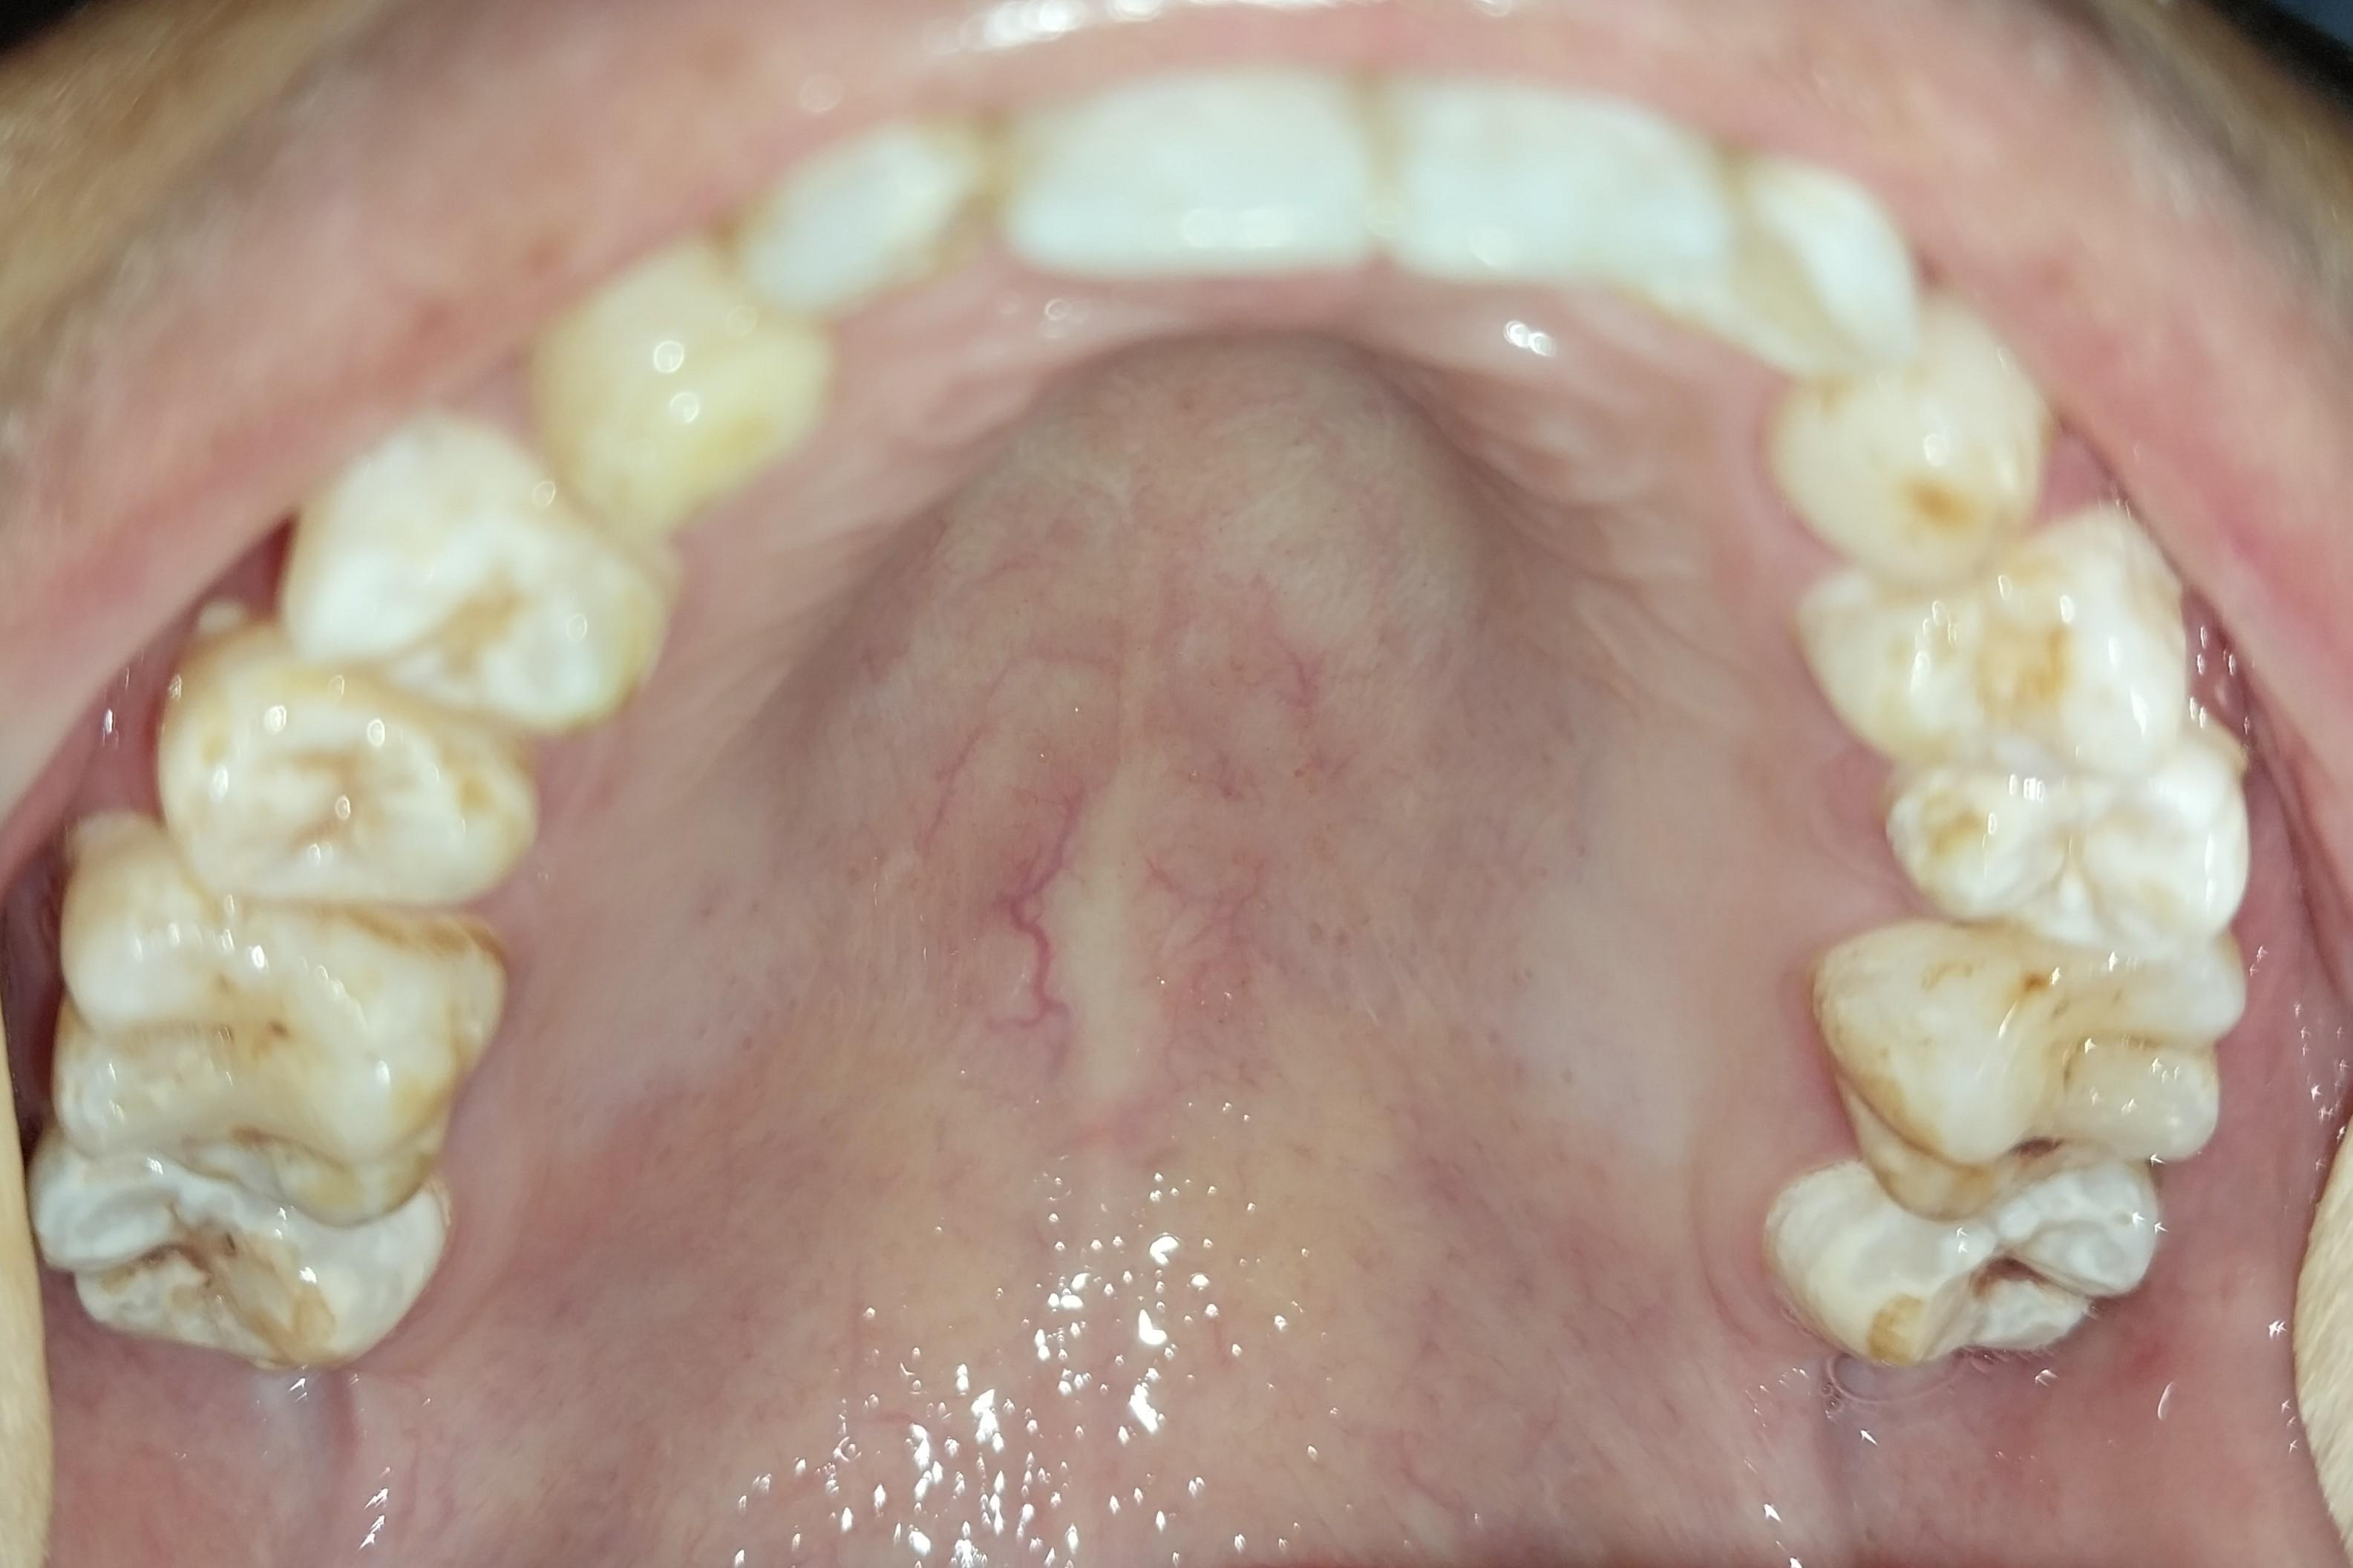D: (47, 850, 497, 1213), (1820, 895, 2247, 1224), (31, 1131, 455, 1367), (1767, 1139, 2160, 1372)
